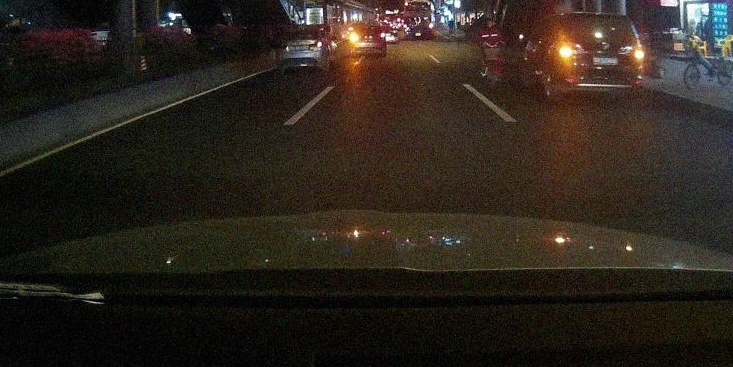L_light: (560, 47, 581, 59), (283, 43, 291, 49), (350, 35, 358, 40)
R_light: (627, 49, 643, 59), (310, 42, 322, 48), (377, 33, 385, 38)
T_light: (592, 16, 607, 20), (300, 30, 307, 32), (363, 26, 369, 28)
night-left: (556, 10, 644, 102), (349, 25, 385, 56)
night-no: (282, 27, 323, 74)
